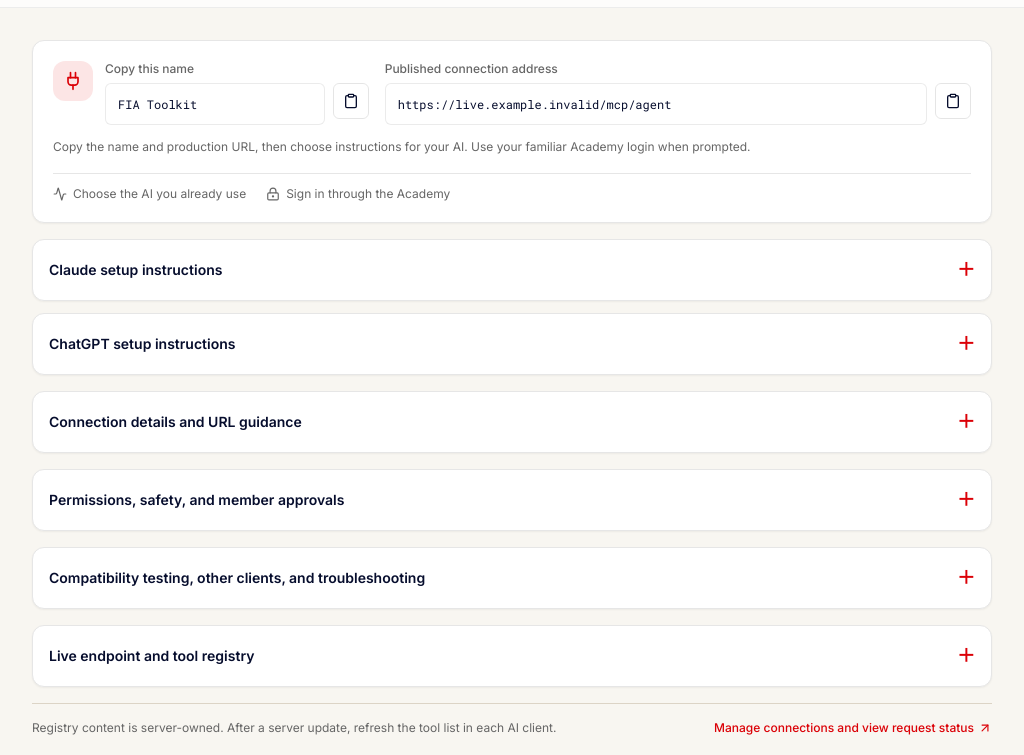
Admin MCP server guide › filters endpoint and tool references and shows required edit inputs
The image size is (1024, 755).
(page scrolled)
Check: the text "https://live.example.invalid/mcp/agent" is shown, box [385, 83, 927, 125]
Click the text "Live endpoint and tool registry" at (152,656), box [49, 646, 254, 666]
(page scrolled)
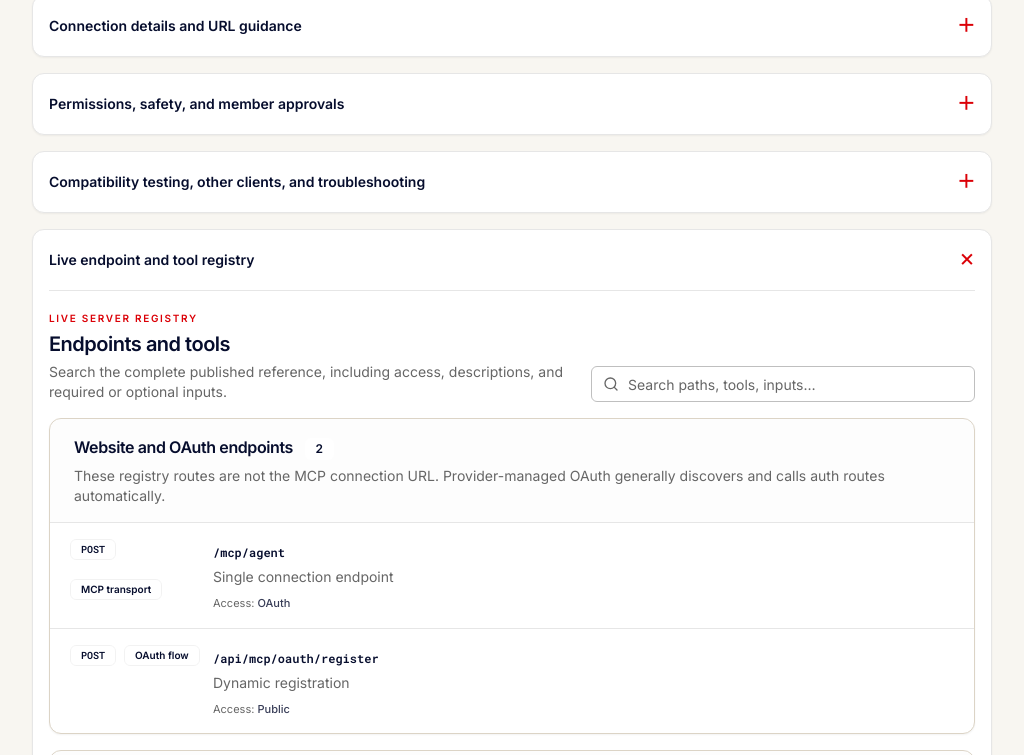
Type "expected_version" into the field named "Search MCP endpoints and tools" at (783,384), box [591, 366, 975, 402]
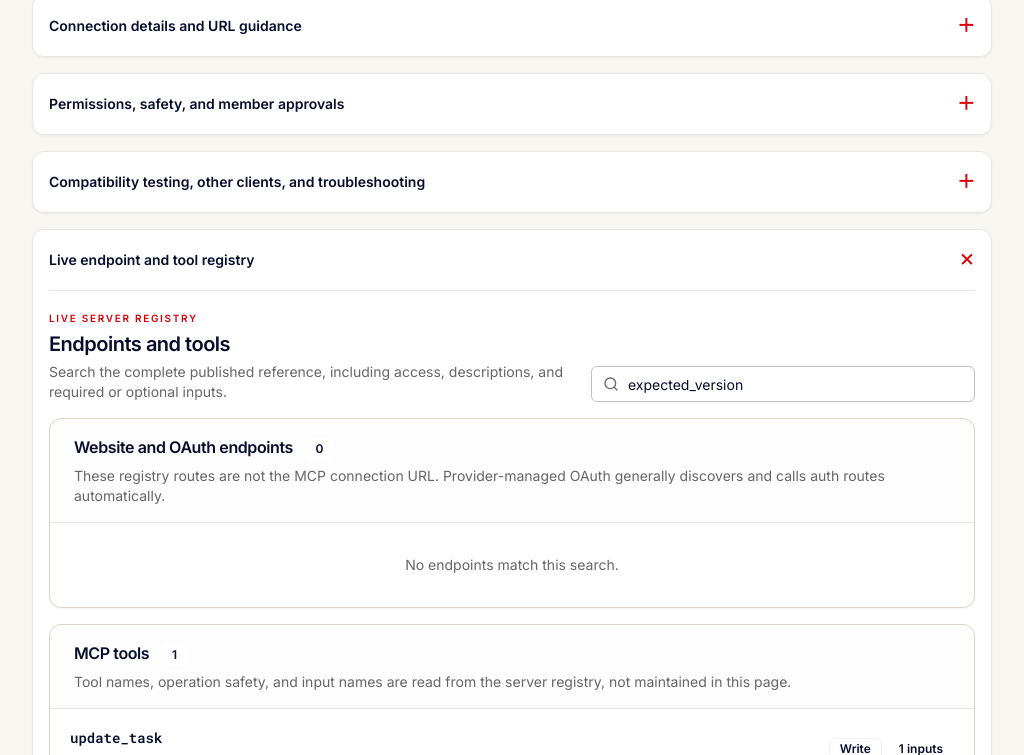
Check: the text "update_task" is shown, box [70, 728, 162, 747]
Replace the text in the field named "Search MCP endpoints and tools" with "nothing-matches" at (783,384), box [591, 366, 975, 402]
(page scrolled)
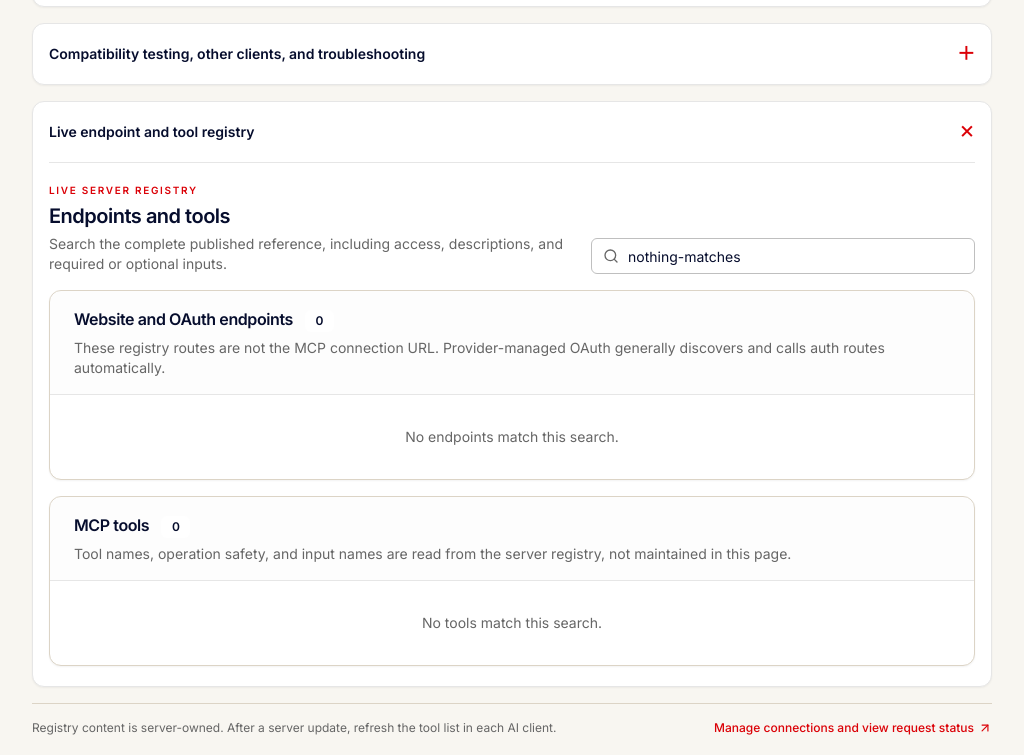
Check: the text "No tools match this search." is shown, box [422, 614, 602, 631]
